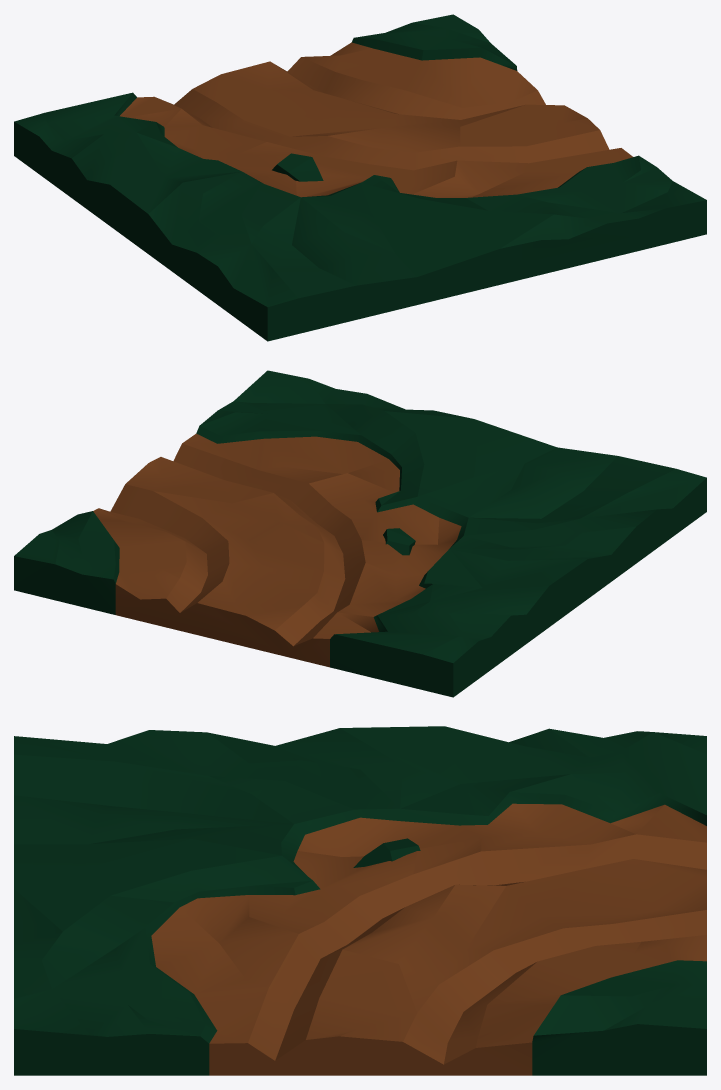
Rendered from Ground_Road_Turn_LB_1.fbx.
3 renders of one model, top to bottom at view 1: azimuth 30°, elevation 25°; view 2: azimuth 150°, elevation 25°; view 3: azimuth 270°, elevation 25°, orthographic. The views are drawn at different scales.
Visible parts, largest first — view 1: Ground_Road_Turn_LB_1; view 2: Ground_Road_Turn_LB_1; view 3: Ground_Road_Turn_LB_1.
Part boxes in pixels (x1,y1,x2,y2): Ground_Road_Turn_LB_1: (14,14,706,341); Ground_Road_Turn_LB_1: (14,370,706,697); Ground_Road_Turn_LB_1: (14,726,706,1075).
Size of the model in its own units: 147 by 14.83 by 147.
